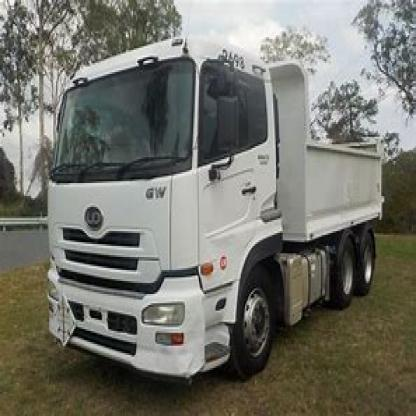dump_truck: (27, 43, 390, 384)
